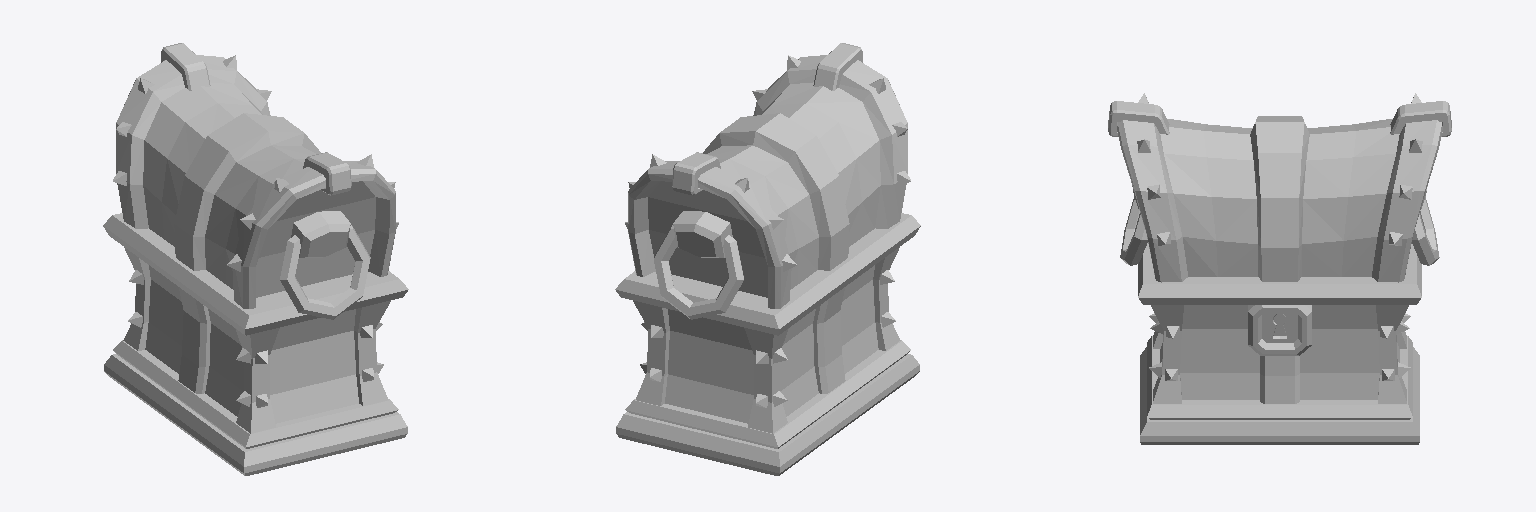
Rendered from chest.obj.
3 views of the same model, side by side, from view 1: azimuth 30°, elevation 25°; view 2: azimuth 150°, elevation 25°; view 3: azimuth 270°, elevation 25° (orthographic).
Visible parts, largest first — view 1: final_low Top_low, final_low WoodBottom_low, final_low Base_low, final_low BotMetal_low, final_low MetalTop_low, group5 final_low Ring1_low, final_low Ornaments_low, group5 final_low handle1_low, group5 final_low polySurface14, polySurface15 group5 final_low; view 2: final_low Top_low, final_low WoodBottom_low, final_low Base_low, final_low BotMetal_low, final_low MetalTop_low, group5 final_low Ring1_low1, final_low Ornaments_low, group5 final_low handle1_low1, polySurface15 group5 final_low, group5 final_low polySurface14; view 3: final_low Top_low, final_low Base_low, final_low WoodBottom_low, final_low MetalTop_low, final_low BotMetal_low, final_low KeyHole_low, final_low Ornaments_low, polySurface15 group5 final_low, group5 final_low polySurface14, group5 final_low Ring1_low, group5 final_low Ring1_low1.
Boxes of the visible parts, <box> form: final_low Top_low: <box>116,55,395,308</box>; final_low WoodBottom_low: <box>145,265,358,423</box>; final_low Base_low: <box>104,340,407,475</box>; final_low BotMetal_low: <box>123,247,390,433</box>; final_low MetalTop_low: <box>103,213,408,335</box>; group5 final_low Ring1_low: <box>280,225,370,319</box>; final_low Ornaments_low: <box>161,43,351,195</box>; group5 final_low handle1_low: <box>291,211,350,257</box>; group5 final_low polySurface14: <box>227,154,398,407</box>; polySurface15 group5 final_low: <box>113,55,271,327</box>; final_low Top_low: <box>628,55,907,308</box>; final_low WoodBottom_low: <box>665,265,878,423</box>; final_low Base_low: <box>616,340,919,475</box>; final_low BotMetal_low: <box>633,247,900,433</box>; final_low MetalTop_low: <box>615,213,920,335</box>; group5 final_low Ring1_low1: <box>654,225,743,319</box>; final_low Ornaments_low: <box>672,43,862,195</box>; group5 final_low handle1_low1: <box>673,211,732,257</box>; polySurface15 group5 final_low: <box>625,154,796,407</box>; group5 final_low polySurface14: <box>752,55,910,327</box>; final_low Top_low: <box>1117,116,1442,282</box>; final_low Base_low: <box>1140,336,1419,444</box>; final_low WoodBottom_low: <box>1160,305,1399,399</box>; final_low MetalTop_low: <box>1138,243,1421,304</box>; final_low BotMetal_low: <box>1151,305,1408,403</box>; final_low KeyHole_low: <box>1248,305,1311,355</box>; final_low Ornaments_low: <box>1108,101,1451,136</box>; polySurface15 group5 final_low: <box>1380,93,1422,380</box>; group5 final_low polySurface14: <box>1137,93,1179,380</box>; group5 final_low Ring1_low: <box>1120,196,1147,265</box>; group5 final_low Ring1_low1: <box>1412,196,1439,265</box>.
Size of the model in its own units: 1.57 by 2.61 by 2.7.